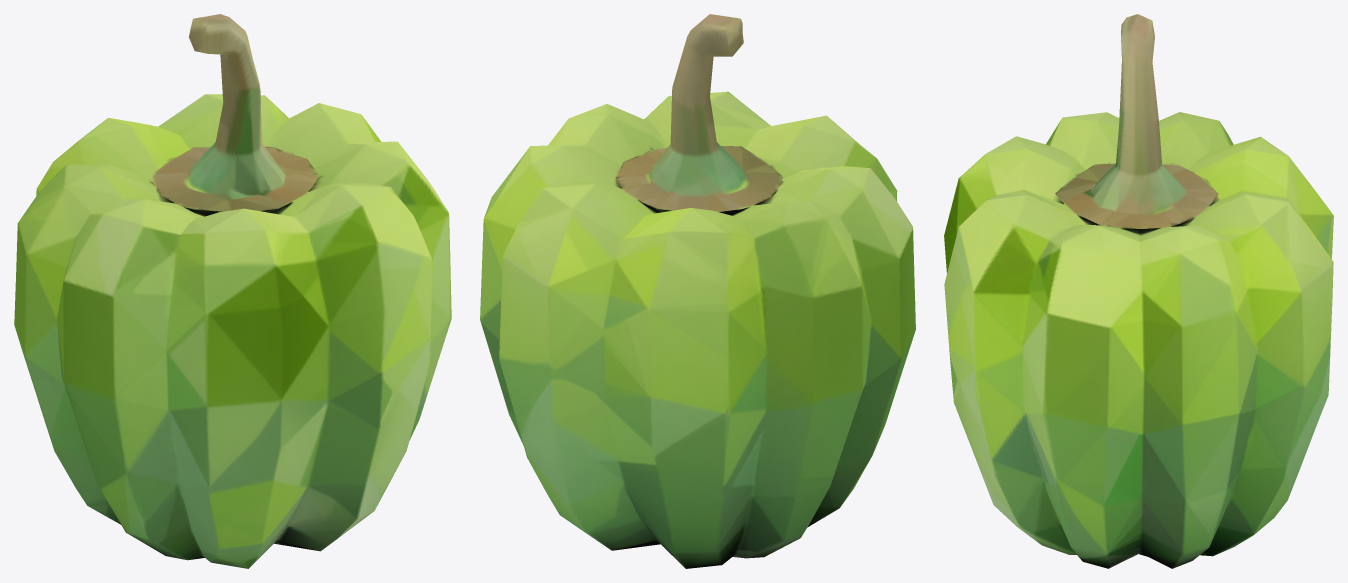
File: base_basic_shaded.fbx
The picture shows the model from 3 angles, left to right: view 1: azimuth 30°, elevation 25°; view 2: azimuth 150°, elevation 25°; view 3: azimuth 270°, elevation 25°; orthographic projection. The views are drawn at different scales.
Parts seen in each view (by area): view 1: model; view 2: model; view 3: model.
Boxes of the visible parts, <box> form: model: <box>14,14,451,568</box>; model: <box>480,14,915,568</box>; model: <box>944,14,1333,568</box>.
Bounding box in the file's own units: 139 × 188 × 130.
